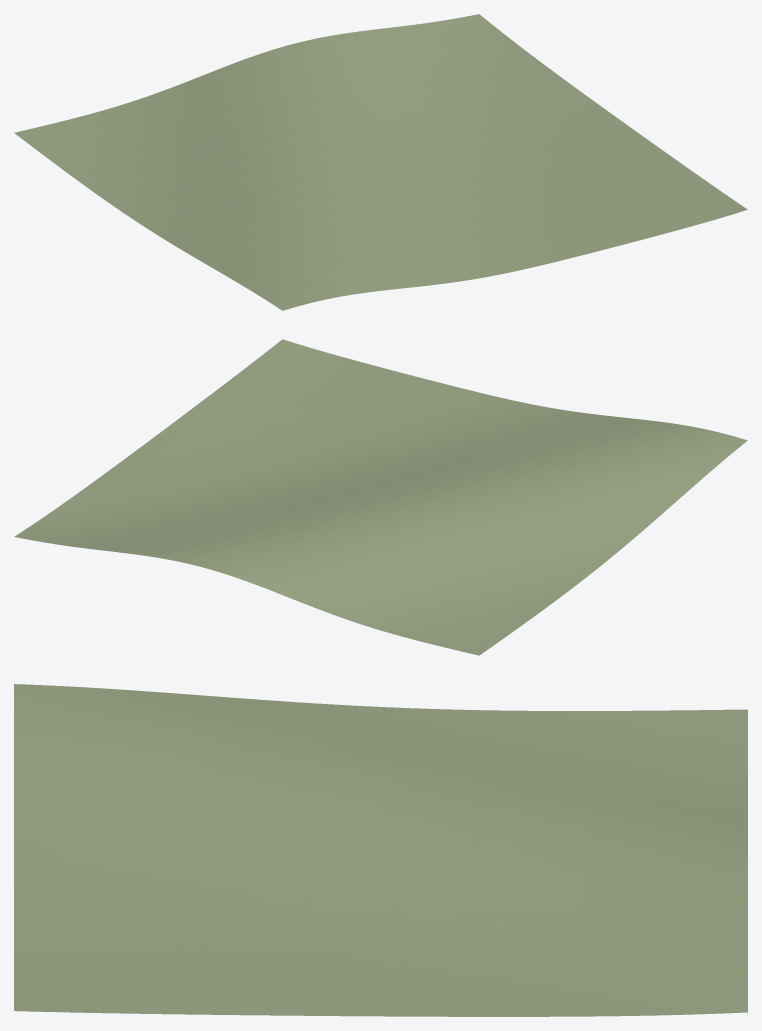
Rendered from desert-7-9.glb.
The picture shows the model from 3 angles, top to bottom: view 1: azimuth 30°, elevation 25°; view 2: azimuth 150°, elevation 25°; view 3: azimuth 270°, elevation 25°; orthographic projection. The views are drawn at different scales.
Visible parts, largest first — view 1: desert-7-9; view 2: desert-7-9; view 3: desert-7-9.
Boxes of the visible parts, x1,y1,x2,y2 form: desert-7-9: (14,14,747,310); desert-7-9: (14,339,747,655); desert-7-9: (14,684,747,1016).
Size of the model in its own units: 512 by 23.17 by 512.
